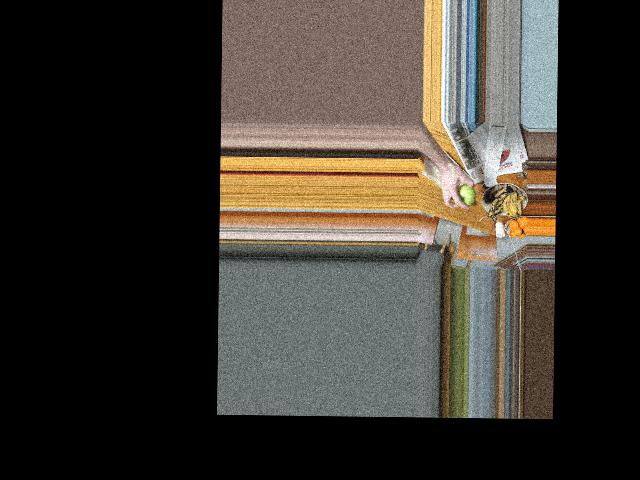apple: (452, 179, 474, 209)
